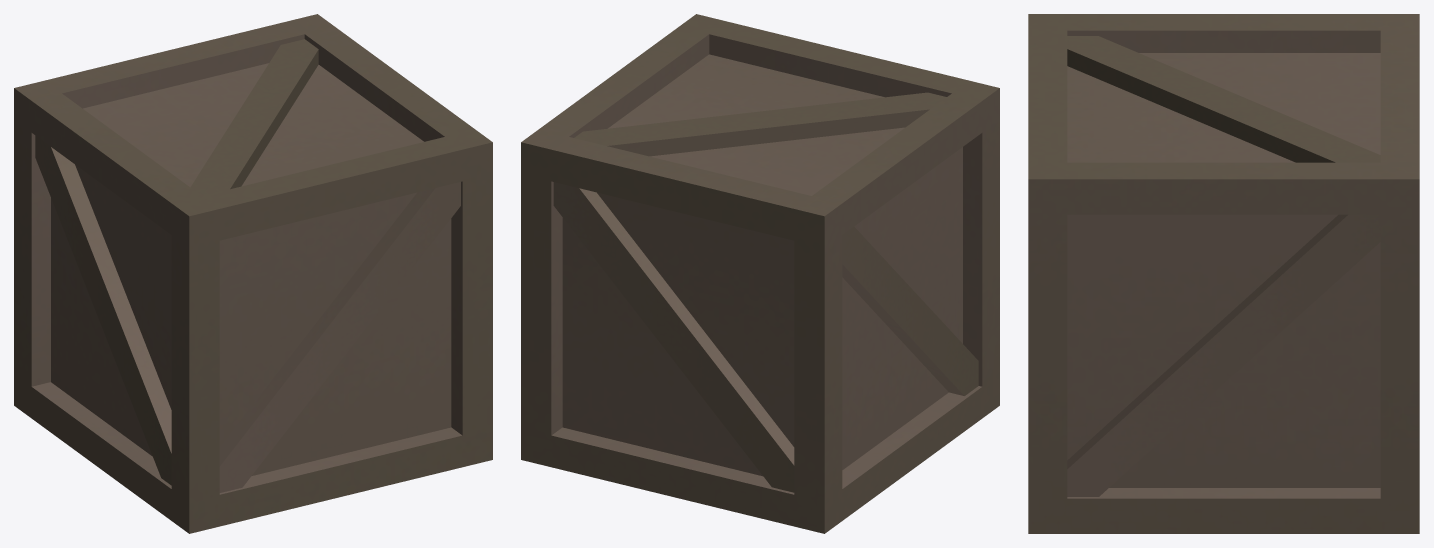
File: Crate_1.fbx
3 renders of one model, left to right at view 1: azimuth 30°, elevation 25°; view 2: azimuth 150°, elevation 25°; view 3: azimuth 270°, elevation 25°, orthographic. The views are drawn at different scales.
Visible parts, largest first — view 1: pCube776; view 2: pCube776; view 3: pCube776.
Boxes of the visible parts, x1,y1,x2,y2 form: pCube776: (14, 14, 492, 533); pCube776: (521, 14, 999, 533); pCube776: (1028, 14, 1419, 533).
Bounding box in the file's own units: 60 × 60 × 60.
